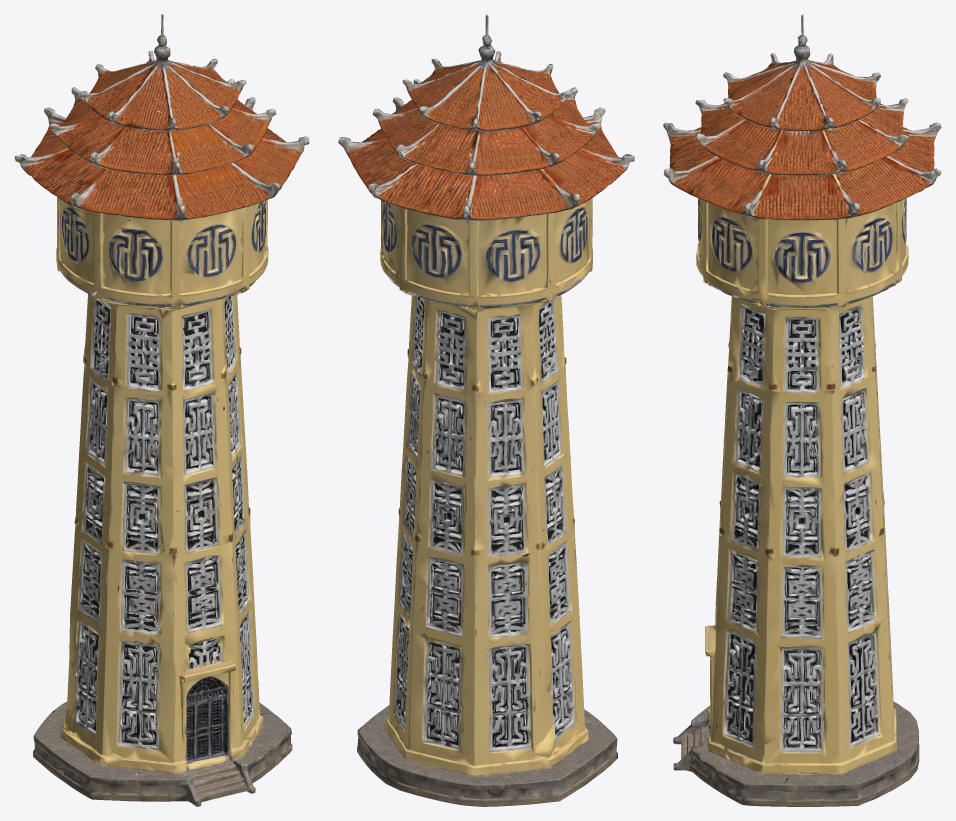
The model's file is thap-nuoc-phan-thiet.glb.
3 renders of one model, left to right at view 1: azimuth 30°, elevation 25°; view 2: azimuth 150°, elevation 25°; view 3: azimuth 270°, elevation 25°, orthographic.
Size of the model in its own units: 0.34 by 0.9993 by 0.3399.
1 material, 1 textured.
